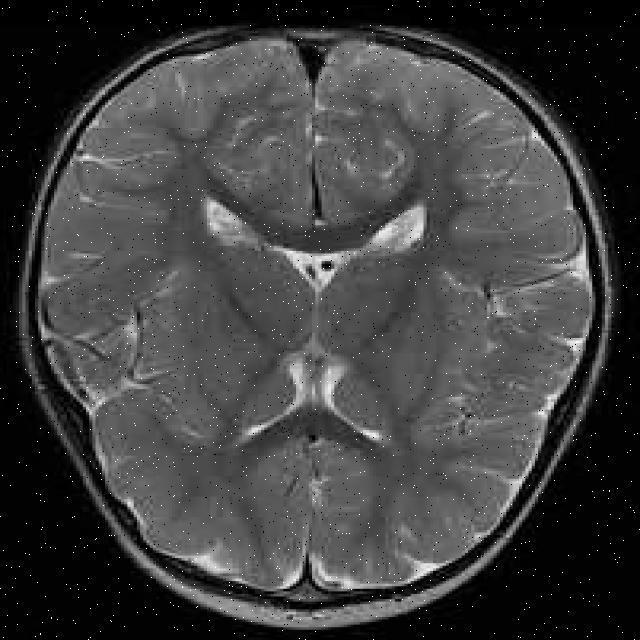No_Tumor: (19, 25, 614, 626)
